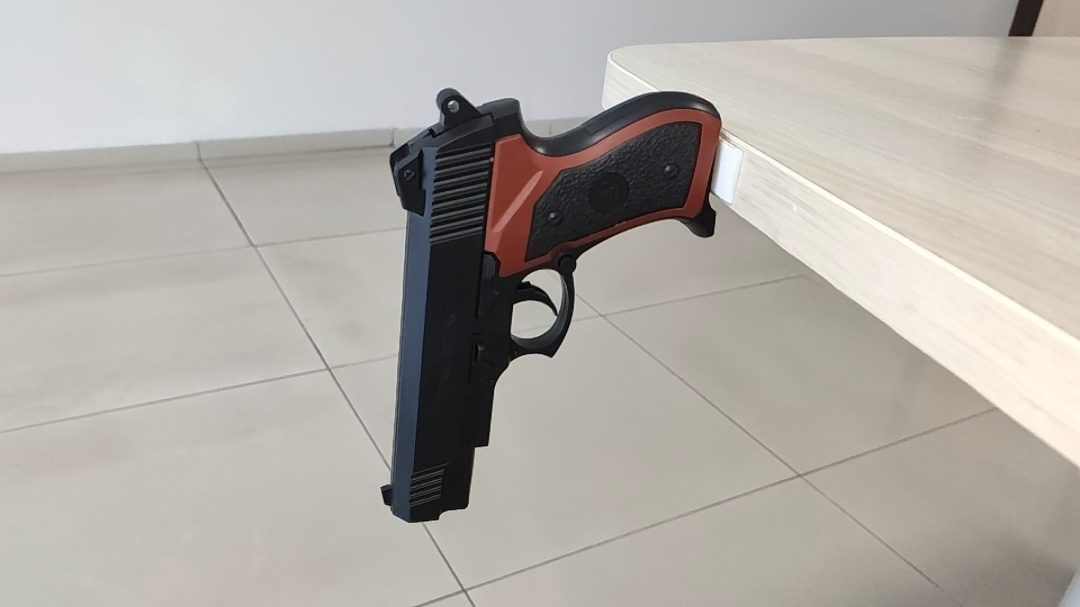gun: (289, 183, 508, 354)
